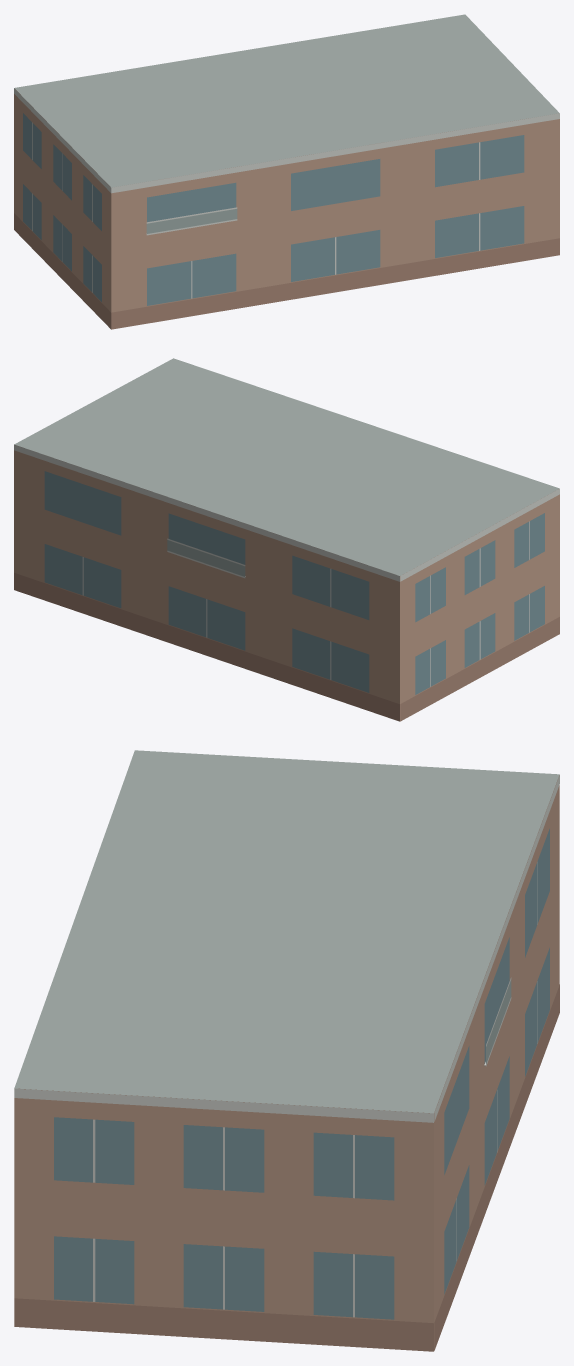
File: survey-upis-32886752.glb
3 renders of one model, top to bottom at view 1: azimuth 30°, elevation 25°; view 2: azimuth 150°, elevation 25°; view 3: azimuth 270°, elevation 25°, orthographic. The views are drawn at different scales.
Parts seen in each view (by area): view 1: survey-upis-32886752.tmp; view 2: survey-upis-32886752.tmp; view 3: survey-upis-32886752.tmp.
Part boxes in pixels (<box>): survey-upis-32886752.tmp: <box>14,14,559,329</box>; survey-upis-32886752.tmp: <box>14,358,559,721</box>; survey-upis-32886752.tmp: <box>14,750,559,1351</box>.
Bounding box in the file's own units: 19.94 × 6.1 × 12.67.
